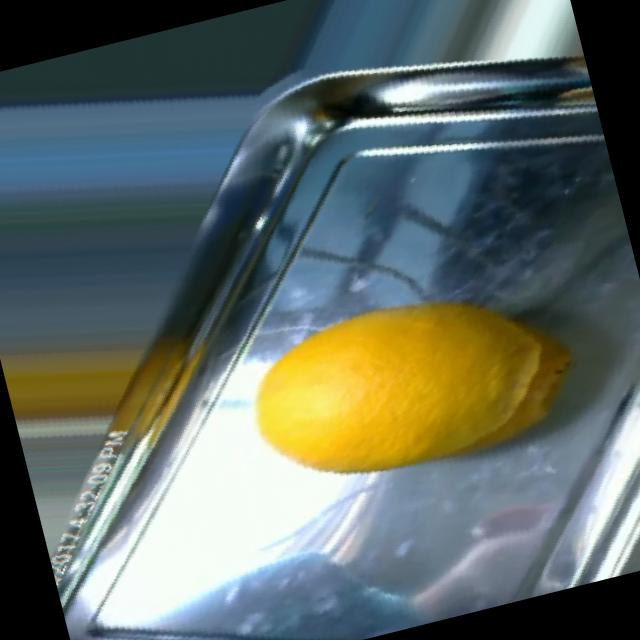Fruit: (379, 256, 619, 490), (0, 275, 207, 470)
